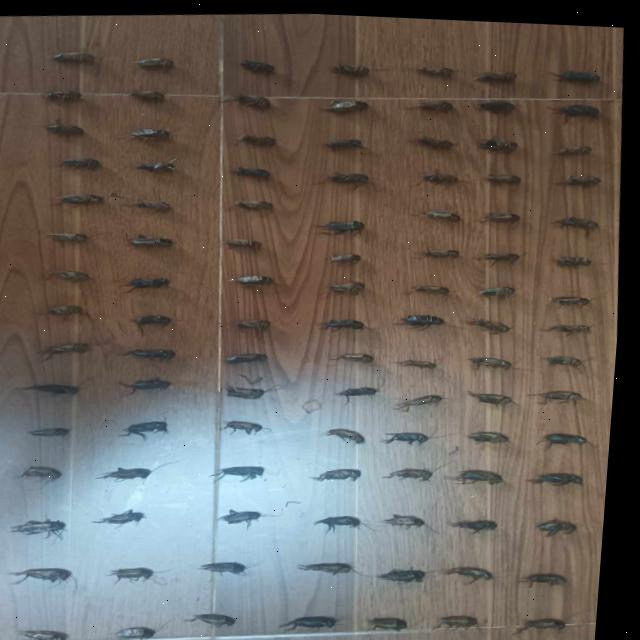no: (523, 613, 569, 629), (399, 391, 438, 408), (100, 509, 139, 526), (103, 466, 149, 480), (23, 383, 68, 397), (199, 611, 241, 625), (290, 614, 331, 628), (456, 562, 489, 579), (126, 422, 160, 438), (527, 568, 563, 583), (385, 564, 423, 578), (457, 516, 497, 529), (220, 464, 262, 476), (129, 377, 160, 393), (24, 519, 57, 534), (535, 385, 578, 396), (540, 468, 579, 480), (121, 623, 152, 638), (119, 566, 150, 581), (129, 277, 162, 291), (28, 629, 70, 640), (225, 507, 255, 522), (554, 211, 591, 223), (318, 466, 355, 478), (327, 425, 364, 437), (558, 99, 592, 112), (56, 192, 90, 205), (51, 343, 78, 359), (548, 319, 587, 330), (24, 568, 57, 581), (406, 311, 436, 325), (388, 429, 426, 440), (310, 560, 347, 571), (465, 466, 496, 479), (324, 97, 357, 109), (391, 510, 417, 525), (345, 384, 375, 397), (322, 513, 357, 524), (209, 560, 241, 572), (317, 218, 355, 228), (545, 516, 572, 530), (228, 352, 262, 363), (416, 132, 447, 144), (475, 314, 501, 328), (138, 157, 164, 171), (558, 66, 591, 77), (397, 464, 427, 476), (329, 169, 359, 181), (325, 136, 357, 147), (49, 50, 81, 61), (410, 279, 439, 291), (450, 612, 476, 625), (473, 387, 501, 399), (53, 269, 81, 281), (474, 68, 507, 78), (129, 128, 162, 138), (479, 132, 504, 145), (237, 93, 266, 104), (133, 235, 162, 246), (42, 90, 71, 101), (28, 466, 57, 477), (34, 427, 69, 436), (378, 614, 404, 626), (241, 132, 265, 145), (45, 120, 69, 133), (479, 282, 510, 292), (129, 348, 163, 357), (553, 291, 583, 301), (477, 97, 507, 107), (234, 165, 264, 175), (480, 353, 507, 364), (550, 351, 579, 361), (227, 237, 256, 247), (240, 57, 264, 69), (331, 279, 357, 290), (240, 272, 262, 285), (137, 57, 162, 68), (551, 429, 581, 438), (558, 171, 588, 180), (63, 158, 90, 168), (231, 384, 253, 396), (136, 314, 160, 325), (131, 89, 155, 100), (328, 316, 357, 325), (417, 63, 449, 71), (236, 199, 264, 208), (52, 233, 80, 242), (43, 306, 71, 315), (475, 427, 500, 437), (337, 350, 368, 358), (486, 170, 513, 179), (485, 208, 509, 218), (426, 207, 452, 216), (332, 251, 355, 261), (335, 62, 358, 72), (239, 317, 262, 327), (132, 199, 160, 207), (425, 246, 452, 254), (419, 97, 440, 107), (482, 248, 508, 256), (558, 252, 581, 261), (557, 142, 582, 150), (229, 419, 254, 427), (423, 169, 445, 178), (403, 356, 429, 363), (37, 371, 43, 379), (515, 172, 519, 179), (432, 357, 437, 362), (159, 92, 162, 99)
